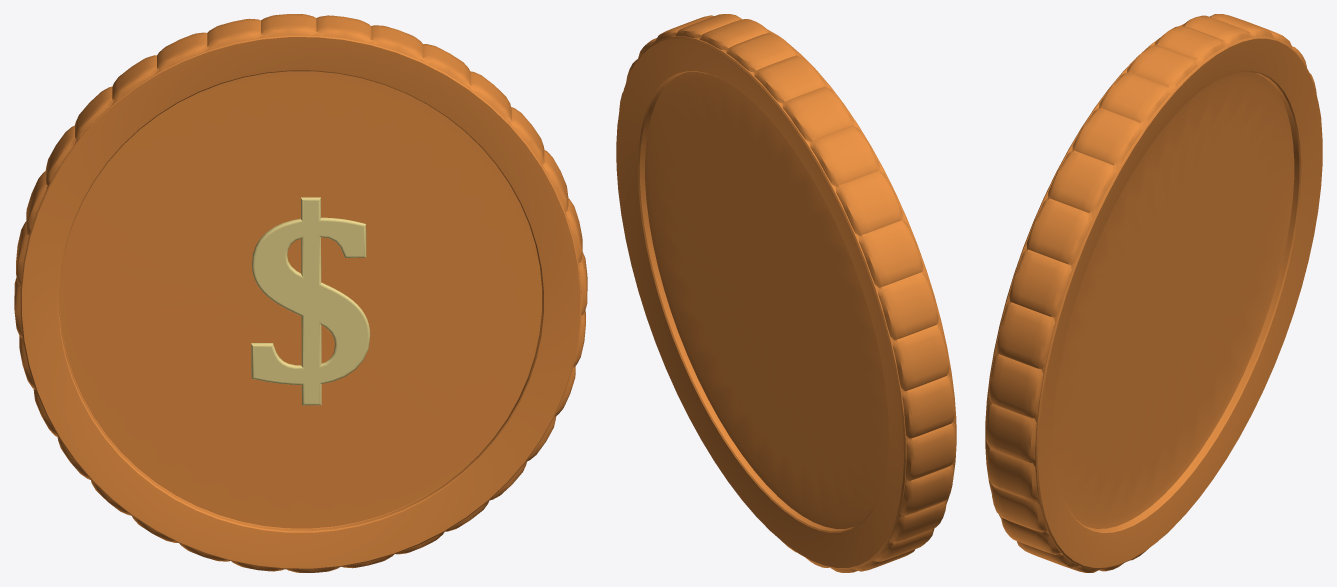
The model's file is Dollar.glb.
The picture shows the model from 3 angles, left to right: view 1: azimuth 30°, elevation 25°; view 2: azimuth 150°, elevation 25°; view 3: azimuth 270°, elevation 25°; orthographic projection.
Visible parts, largest first — view 1: Coin; view 2: Coin; view 3: Coin.
Part boxes in pixels (left/top/right/bottom): Coin: left=14, top=14, right=587, bottom=572; Coin: left=616, top=14, right=956, bottom=572; Coin: left=985, top=14, right=1322, bottom=572.
Bounding box in the file's own units: 0.8287 × 0.9109 × 0.534.
